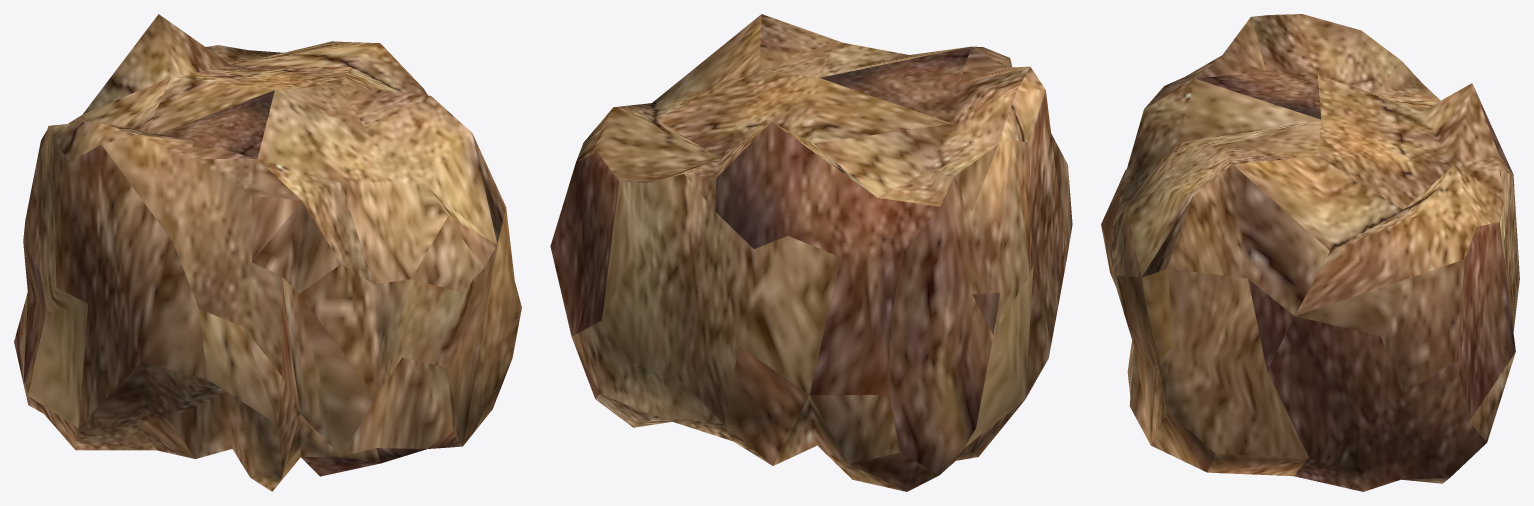
The model's file is RockBlock2.obj.
The picture shows the model from 3 angles, left to right: view 1: azimuth 30°, elevation 25°; view 2: azimuth 150°, elevation 25°; view 3: azimuth 270°, elevation 25°; orthographic projection. The views are drawn at different scales.
Visible parts, largest first — view 1: Rock07; view 2: Rock07; view 3: Rock07.
Part boxes in pixels (bbox=[...]): Rock07: bbox=[14, 14, 521, 491]; Rock07: bbox=[550, 14, 1072, 491]; Rock07: bbox=[1101, 14, 1519, 491].
Bounding box in the file's own units: 12.64 × 10.64 × 12.01.
1 material, 1 textured.
